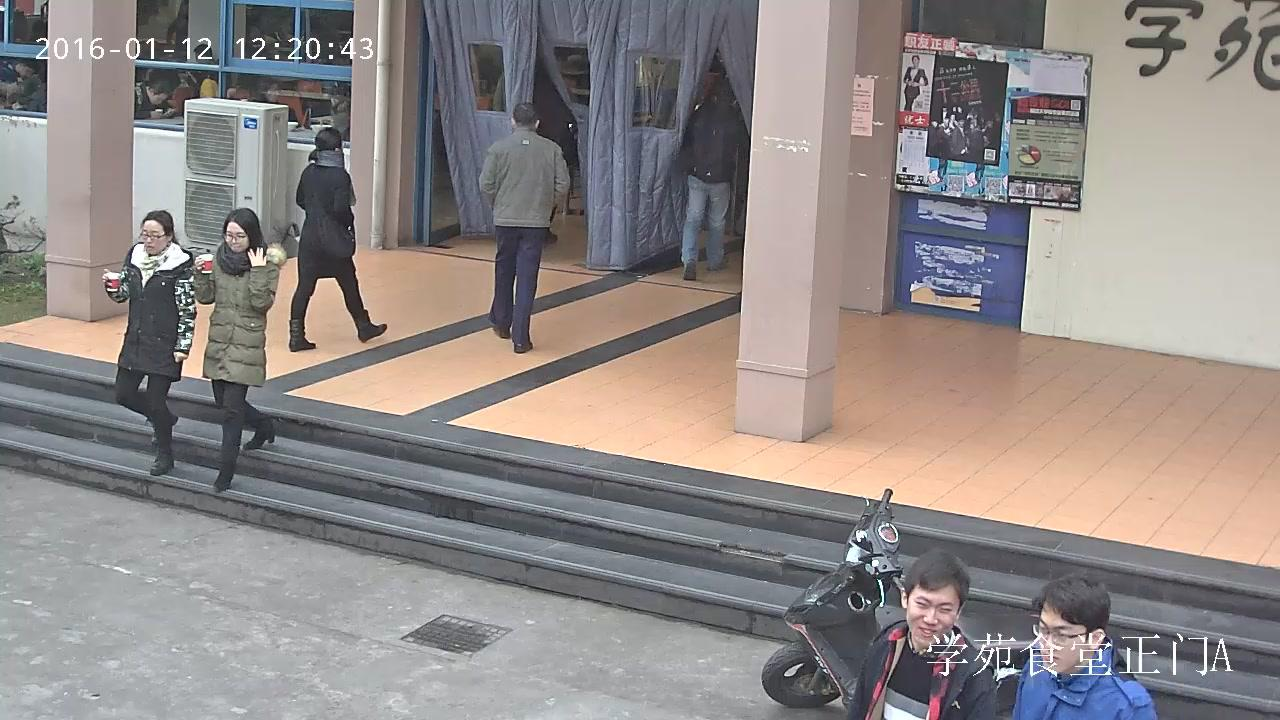person: (193, 207, 286, 489), (846, 549, 997, 720), (101, 209, 196, 474), (478, 101, 570, 353), (289, 128, 386, 352), (1010, 574, 1158, 720), (680, 78, 740, 280), (133, 77, 176, 120), (903, 54, 928, 112)
